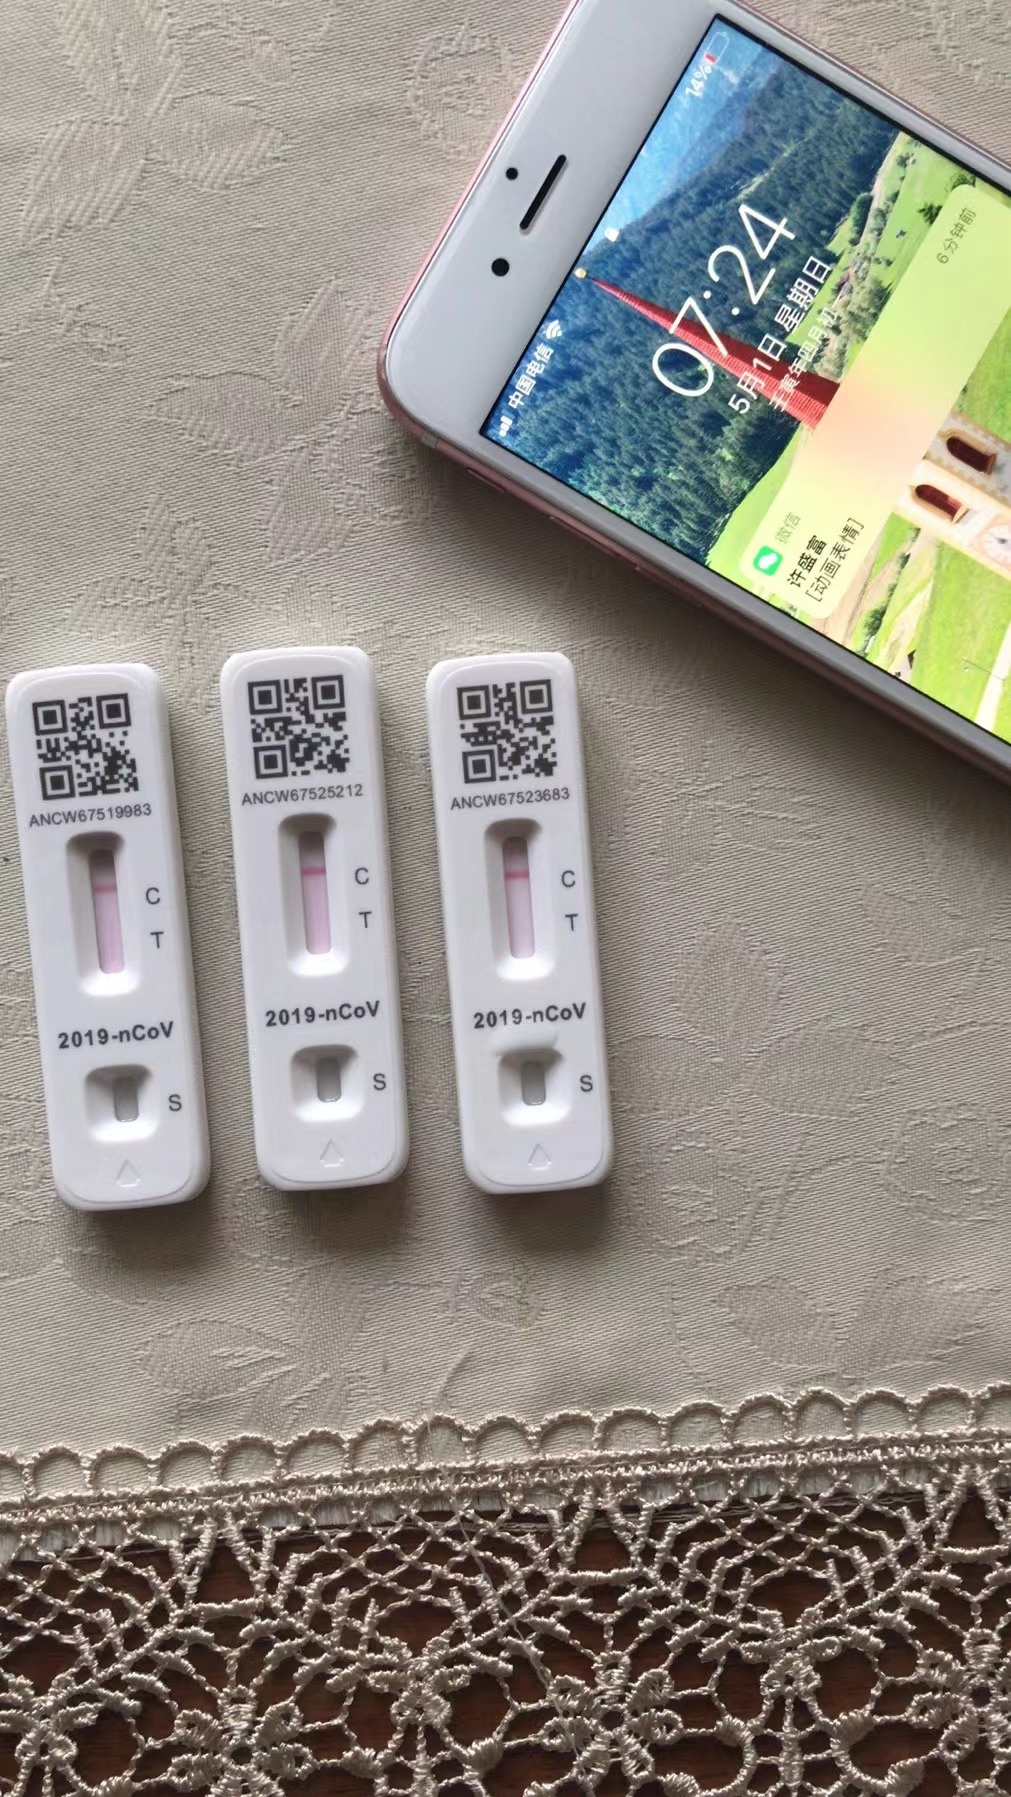negative: (68, 828, 135, 986), (281, 812, 344, 973), (488, 820, 547, 973)
